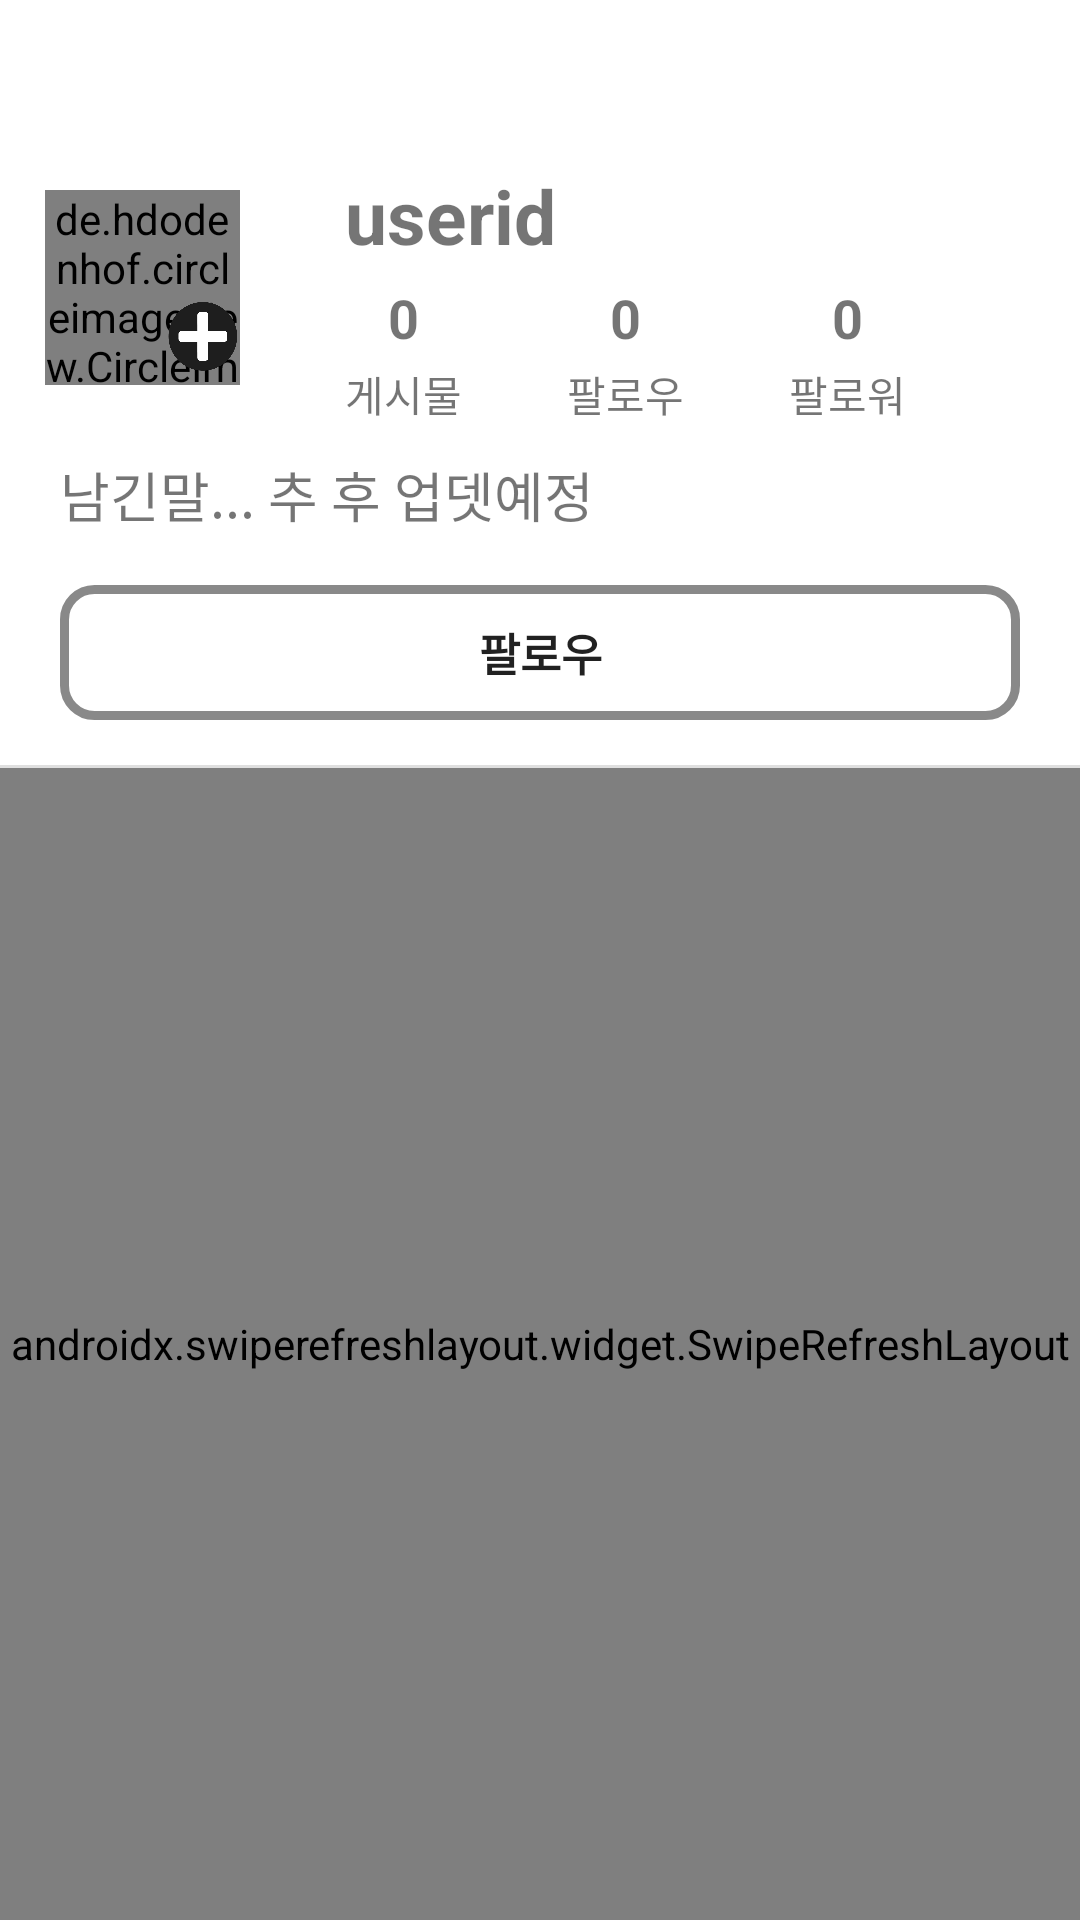

Where to tap for icons on this 1080 × 1920 app screen, as (x,y):
plus: (202,336)
